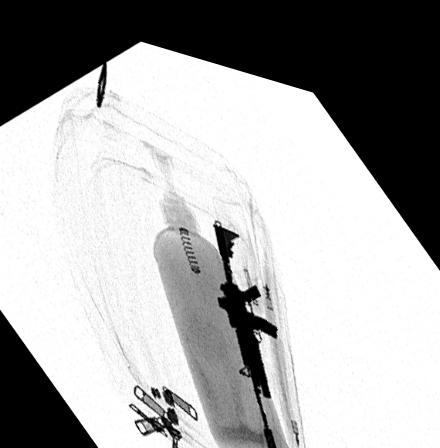Gun: (212, 209, 281, 448)
